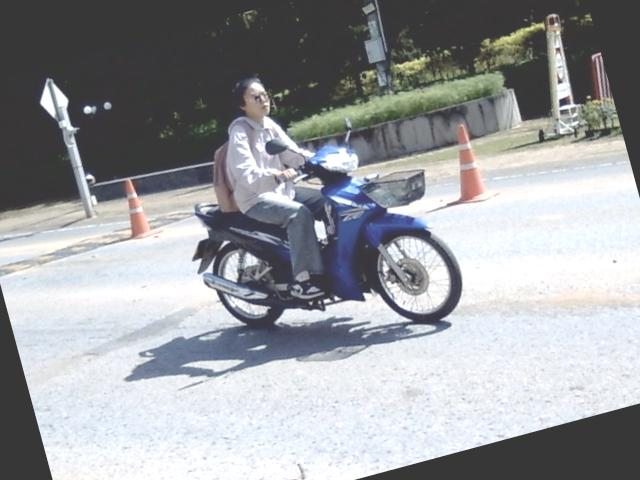motor: (192, 146, 461, 326)
no-helmet: (231, 73, 275, 114)
person: (226, 76, 326, 298)
